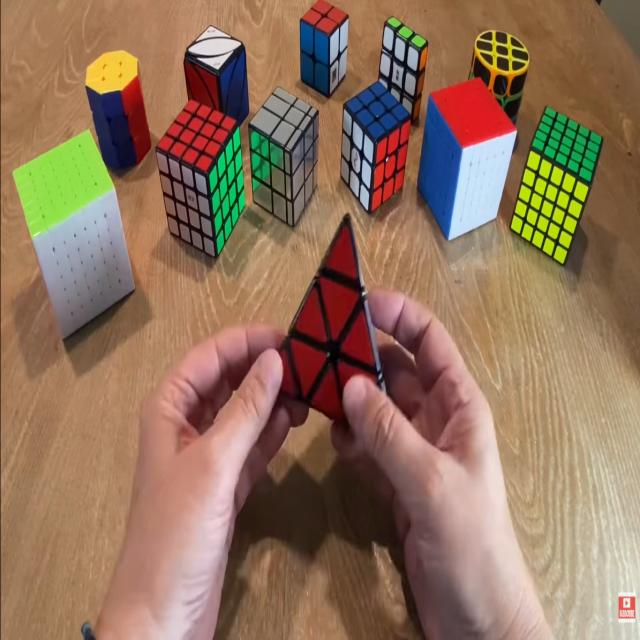Cubo-Resuelto: (14, 130, 134, 337), (417, 79, 516, 239), (511, 107, 602, 263), (156, 99, 245, 255), (340, 81, 411, 213), (378, 17, 428, 121), (300, 0, 349, 96)
Pyraminx: (279, 214, 385, 417)
